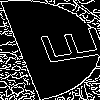E: (25, 25, 100, 68)
